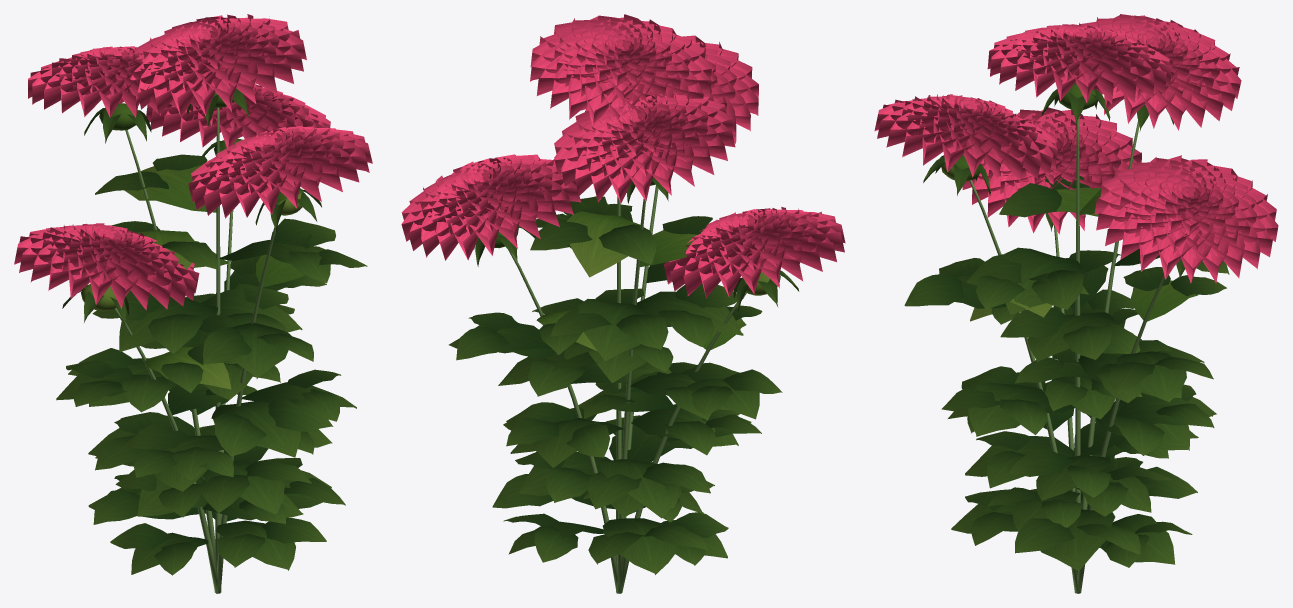
File: dahlia-10-lod.glb
3 renders of one model, left to right at view 1: azimuth 30°, elevation 25°; view 2: azimuth 150°, elevation 25°; view 3: azimuth 270°, elevation 25°, orthographic.
Parts seen in each view (by area): view 1: dahlia_stage_10_leaf_veins.019, dahlia_stage_10_dahlia_petal.019, dahlia_stage_10_young_leaf.019, dahlia_stage_10_stem_fibres.019; view 2: dahlia_stage_10_leaf_veins.019, dahlia_stage_10_dahlia_petal.019, dahlia_stage_10_young_leaf.019, dahlia_stage_10_stem_fibres.019; view 3: dahlia_stage_10_leaf_veins.019, dahlia_stage_10_dahlia_petal.019, dahlia_stage_10_stem_fibres.019, dahlia_stage_10_young_leaf.019.
Boxes of the visible parts, x1=… form: dahlia_stage_10_leaf_veins.019: x1=56, y1=88, x2=367, y2=575; dahlia_stage_10_dahlia_petal.019: x1=14, y1=14, x2=372, y2=310; dahlia_stage_10_young_leaf.019: x1=81, y1=92, x2=304, y2=389; dahlia_stage_10_stem_fibres.019: x1=114, y1=107, x2=278, y2=593; dahlia_stage_10_leaf_veins.019: x1=449, y1=177, x2=799, y2=574; dahlia_stage_10_dahlia_petal.019: x1=401, y1=14, x2=845, y2=297; dahlia_stage_10_young_leaf.019: x1=494, y1=180, x2=780, y2=351; dahlia_stage_10_stem_fibres.019: x1=508, y1=186, x2=746, y2=593; dahlia_stage_10_leaf_veins.019: x1=904, y1=89, x2=1229, y2=571; dahlia_stage_10_dahlia_petal.019: x1=874, y1=14, x2=1278, y2=283; dahlia_stage_10_stem_fibres.019: x1=969, y1=117, x2=1164, y2=593; dahlia_stage_10_young_leaf.019: x1=941, y1=82, x2=1197, y2=321.
Bounding box in the file's own units: 0.4945 × 0.7441 × 0.4861.
Materials: 4 (3 with a texture image).
